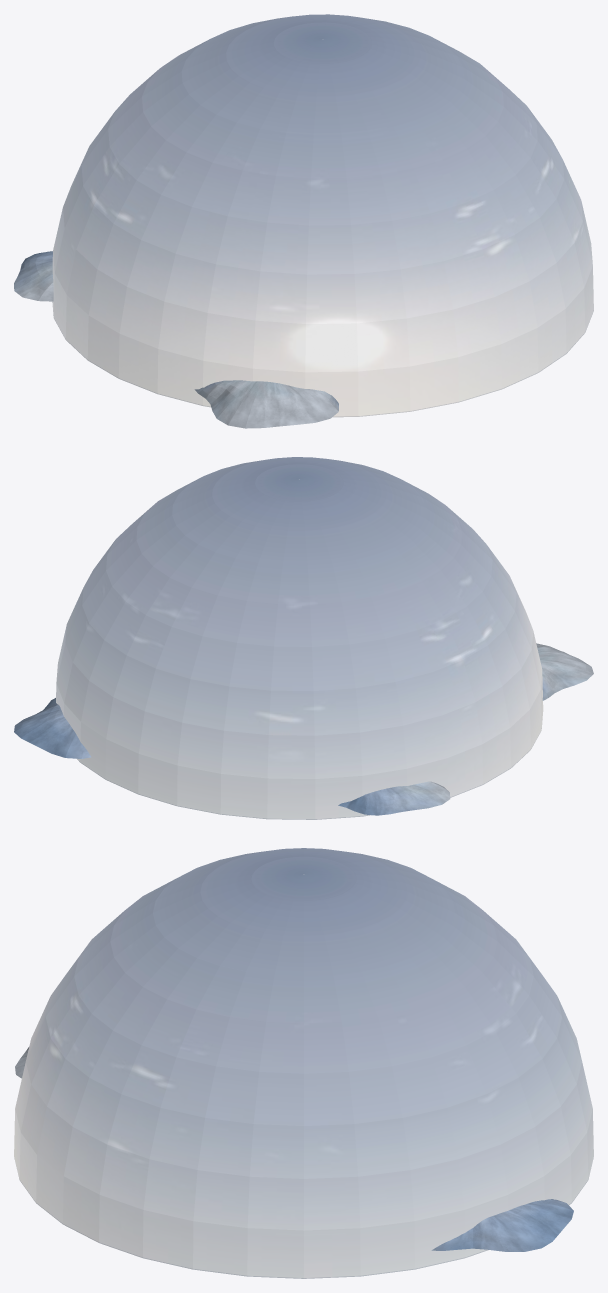
File: lugar-vladivostok-ciudad.glb
The picture shows the model from 3 angles, top to bottom: view 1: azimuth 30°, elevation 25°; view 2: azimuth 150°, elevation 25°; view 3: azimuth 270°, elevation 25°; orthographic projection. The views are drawn at different scales.
Parts seen in each view (by area): view 1: planoC, vertT; view 2: planoC, vertT; view 3: planoC, vertT.
Part boxes in pixels (<box>): planoC: <box>52,14,593,417</box>; vertT: <box>14,251,338,428</box>; planoC: <box>56,457,543,819</box>; vertT: <box>14,643,593,815</box>; planoC: <box>14,848,593,1278</box>; vertT: <box>15,1047,573,1251</box>.
Bounding box in the file's own units: 6584 × 3530 × 6584.
13 materials, 11 textured.
